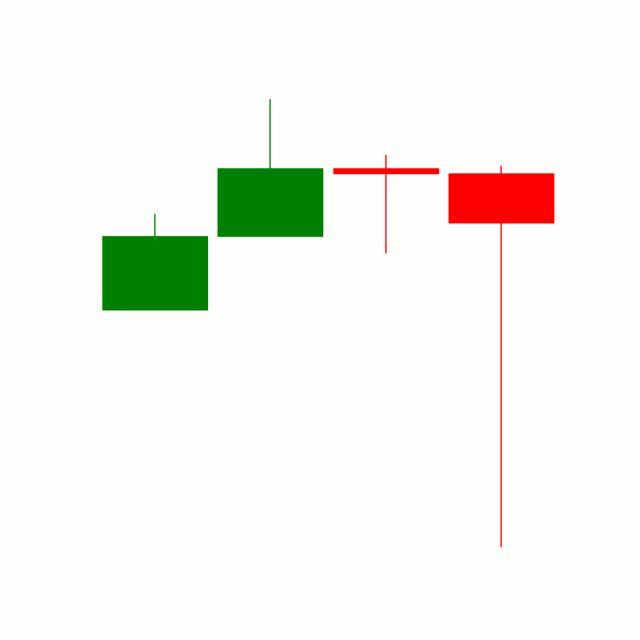Spinning Top: (329, 154, 445, 256)
